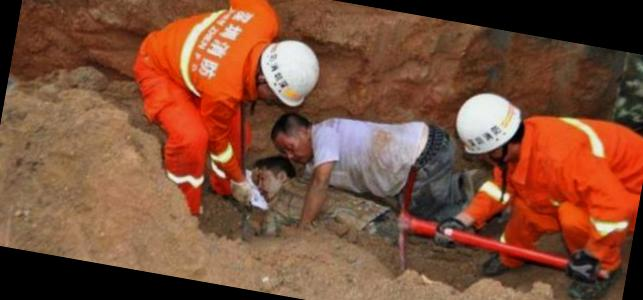no_helmet: (264, 105, 335, 171), (247, 157, 303, 208)
